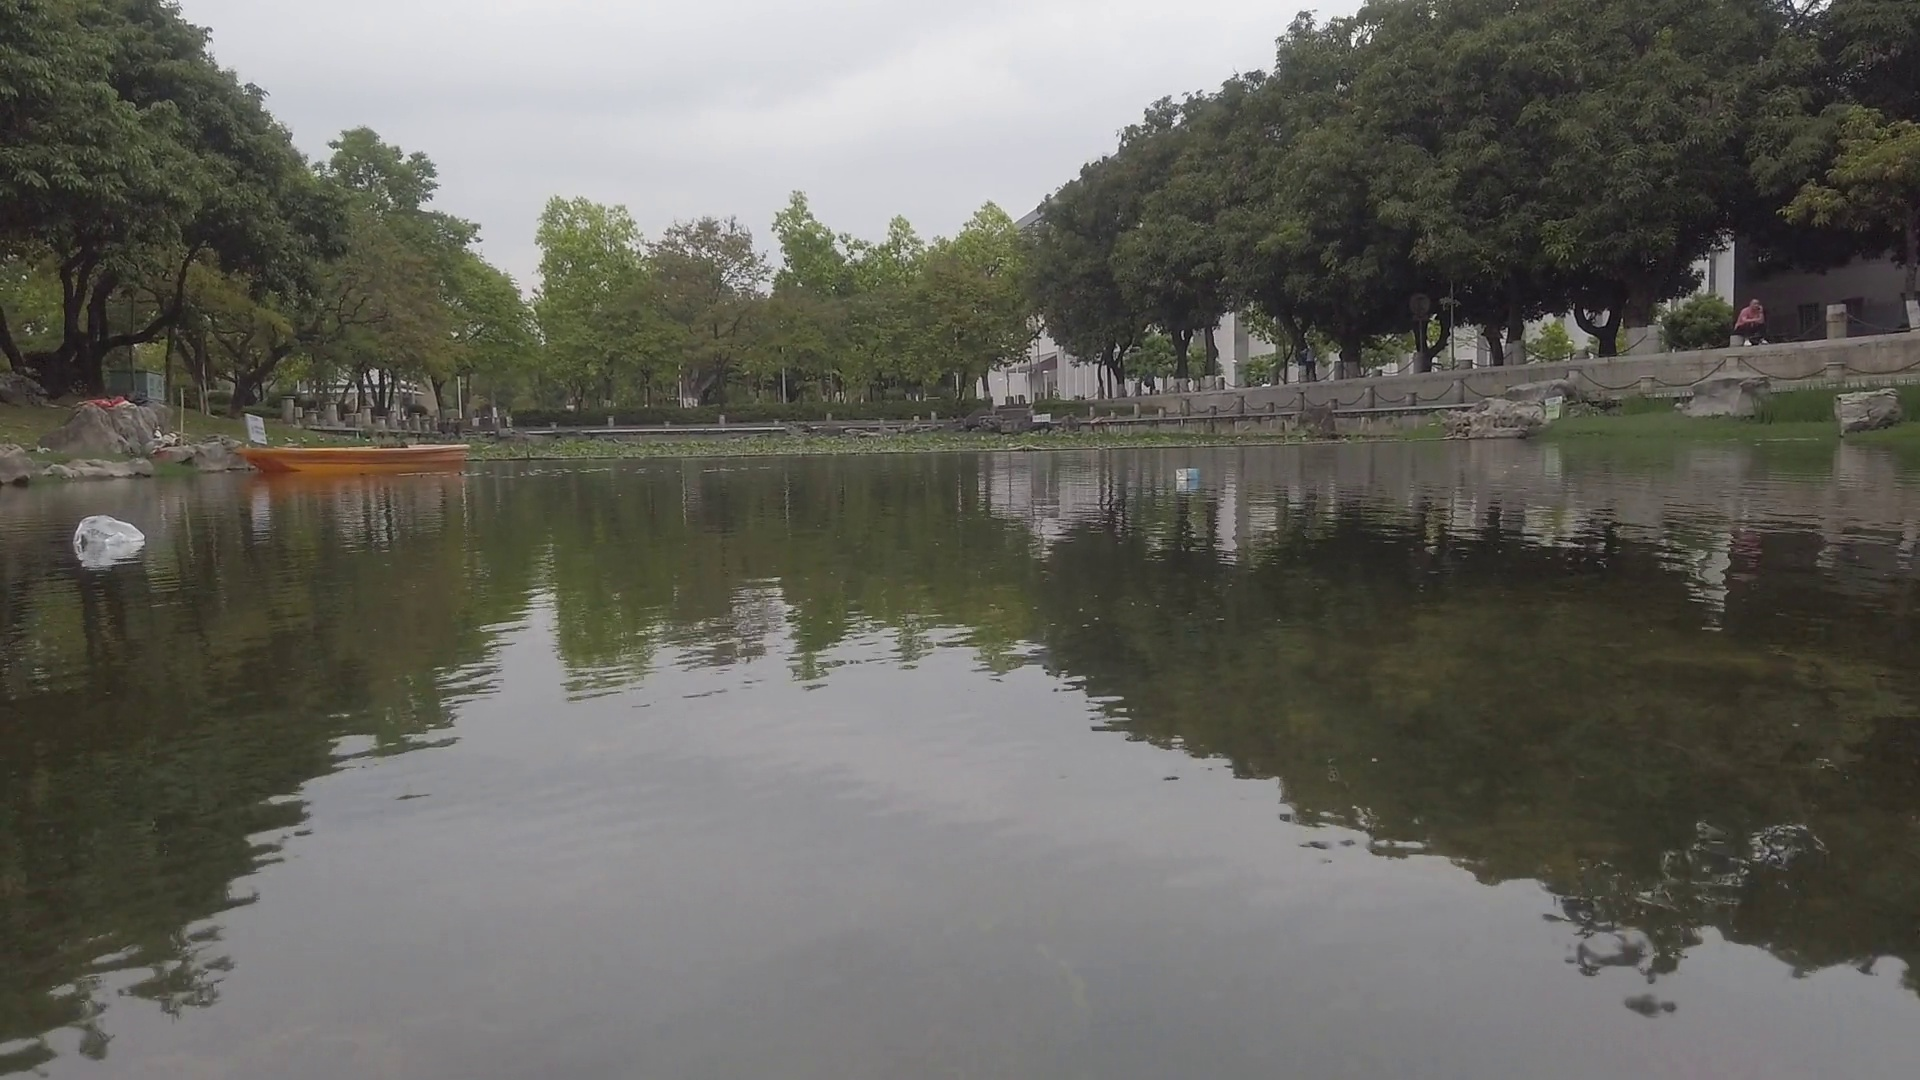carton: (1178, 469, 1201, 481)
plastic: (75, 514, 146, 564)
